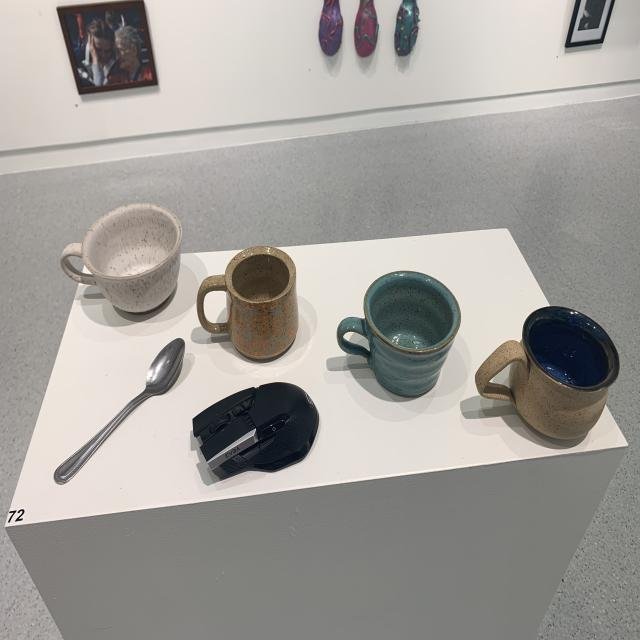Cup: (475, 303, 618, 452), (336, 267, 461, 401), (54, 205, 186, 323), (195, 231, 303, 366)
Mouse: (192, 380, 321, 483)
Spoon: (51, 335, 189, 488)
